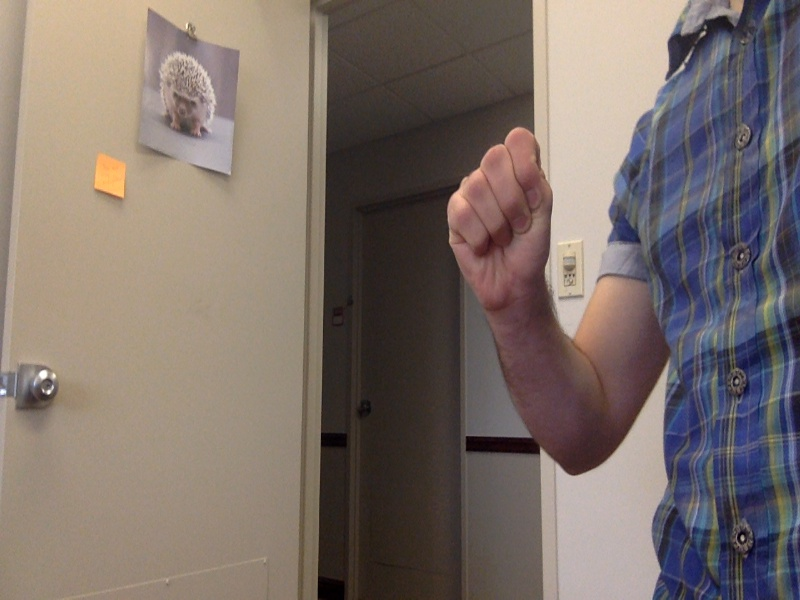0-hand: (444, 128, 555, 314)
